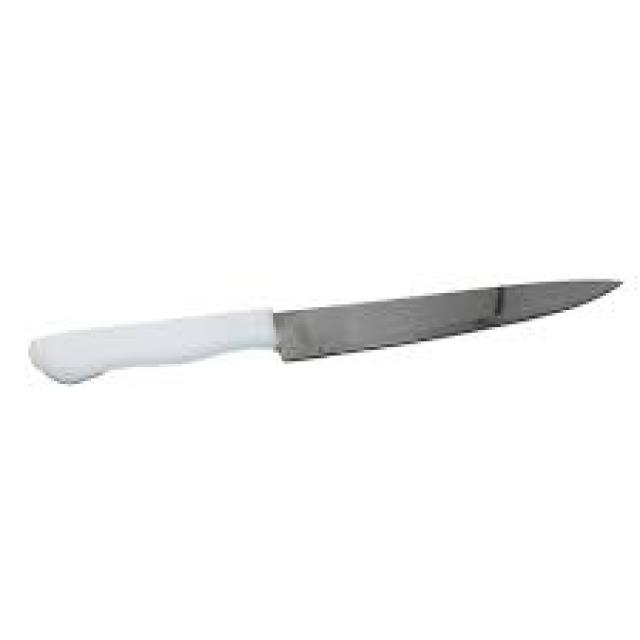Knife: (26, 276, 623, 384)
